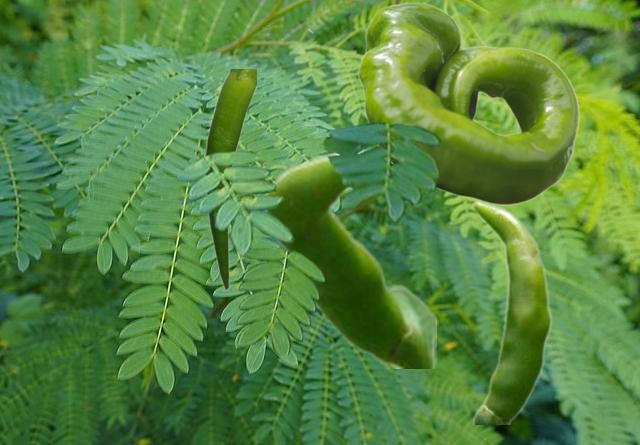green_chili: (358, 2, 578, 204), (269, 148, 435, 367), (470, 199, 552, 423), (204, 69, 255, 289)
